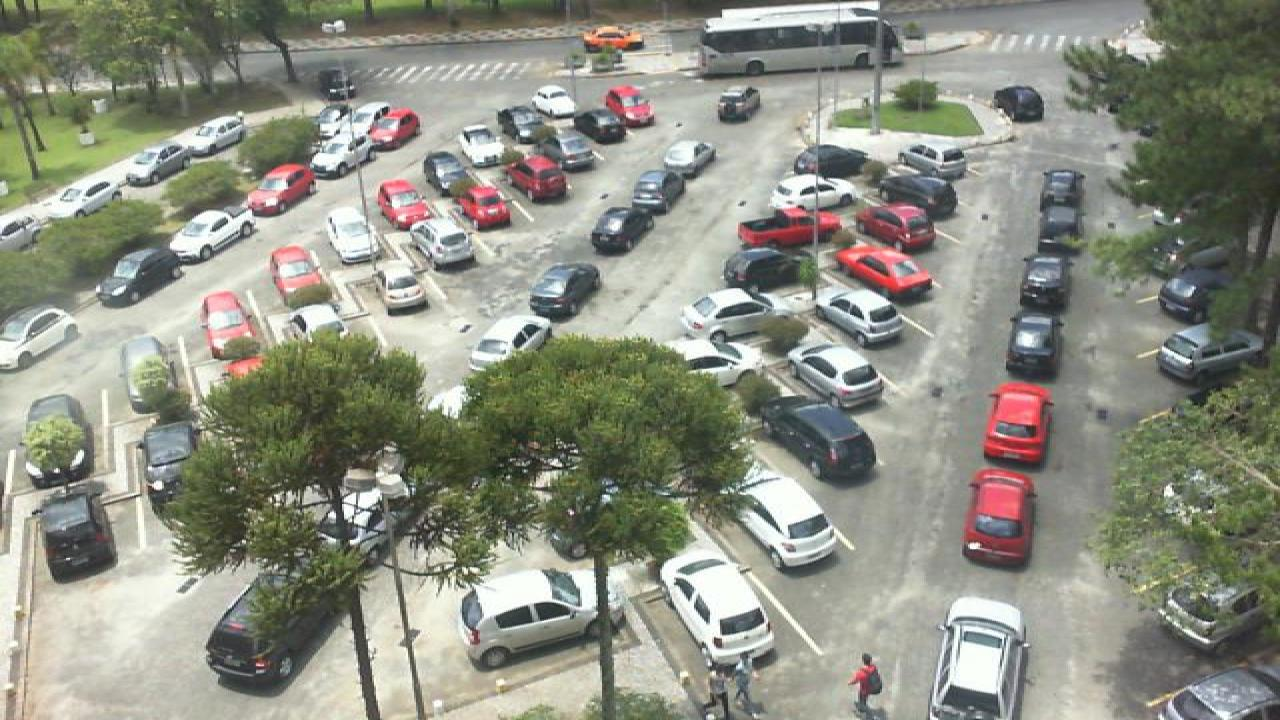Car: (690, 464, 840, 570), (202, 575, 338, 687), (456, 566, 602, 669), (660, 547, 774, 665), (926, 595, 1032, 720), (758, 396, 878, 484), (1154, 562, 1258, 652), (34, 482, 116, 582), (18, 393, 98, 490), (962, 469, 1038, 567), (1152, 665, 1280, 720), (1156, 322, 1266, 384), (790, 344, 886, 411), (982, 382, 1054, 467), (834, 246, 934, 300), (814, 288, 906, 346), (94, 249, 182, 308), (468, 314, 556, 372), (0, 308, 80, 371), (116, 334, 178, 415), (168, 210, 260, 264), (678, 287, 772, 339), (1158, 262, 1240, 321), (736, 204, 844, 248), (142, 420, 200, 500), (200, 288, 262, 357), (528, 262, 600, 321), (1004, 314, 1066, 382), (672, 338, 750, 392), (720, 246, 806, 292), (860, 204, 940, 253), (246, 163, 316, 217), (410, 216, 478, 271), (878, 175, 960, 220), (272, 245, 328, 304), (122, 142, 196, 185), (328, 206, 382, 264), (46, 179, 126, 218), (770, 174, 860, 208), (590, 206, 652, 255), (376, 178, 434, 230), (506, 153, 568, 201), (1020, 256, 1072, 312), (380, 260, 432, 315), (306, 135, 374, 177), (896, 143, 968, 182), (182, 113, 246, 154), (284, 302, 342, 346), (626, 168, 680, 214), (366, 106, 422, 150), (1034, 210, 1084, 259), (794, 144, 866, 178), (422, 150, 474, 197), (460, 184, 512, 230), (540, 131, 598, 172), (312, 103, 376, 140), (456, 124, 508, 168), (662, 140, 716, 180), (992, 84, 1046, 124), (604, 86, 656, 127), (1040, 168, 1086, 214), (572, 108, 628, 144), (496, 107, 546, 144), (530, 84, 580, 120), (316, 68, 358, 106), (718, 86, 762, 122)
